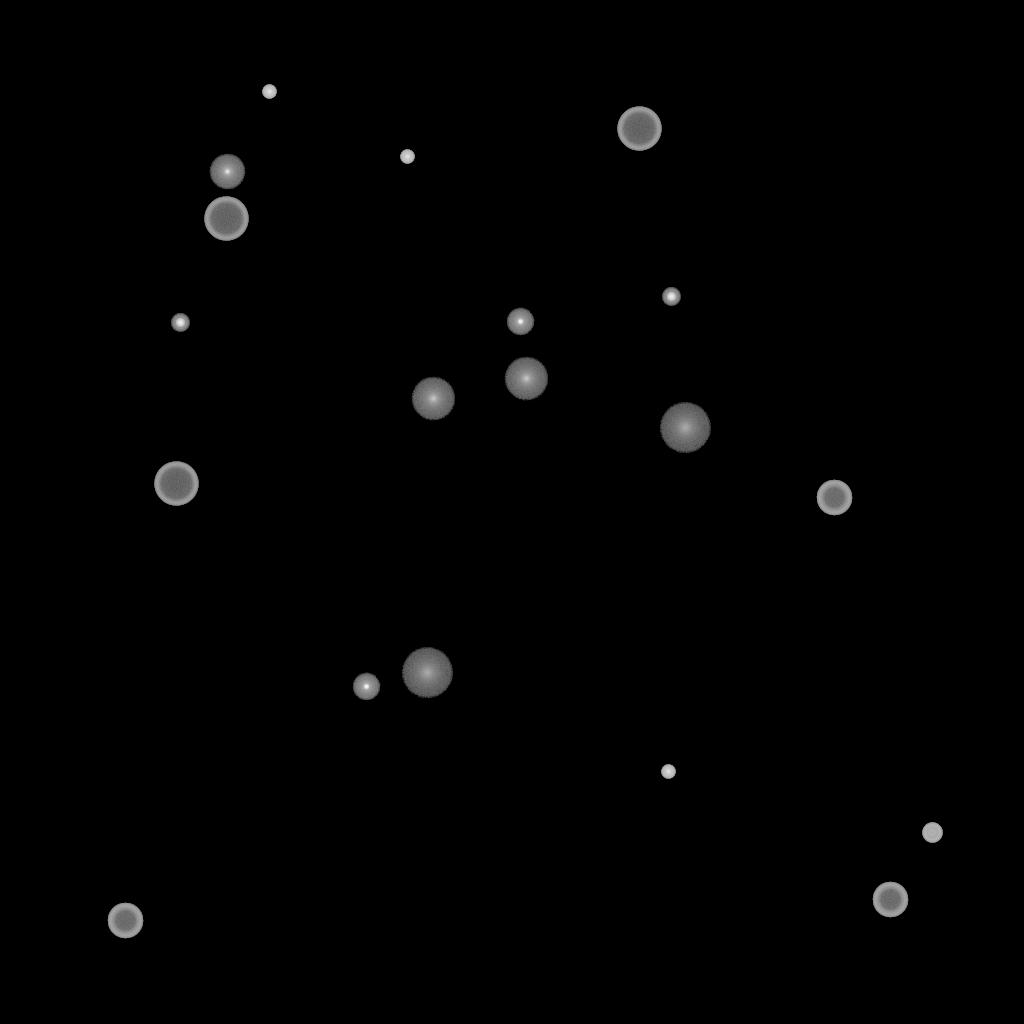depth:-10: (506, 308, 534, 336), (352, 673, 380, 701)
depth:-20: (171, 314, 189, 332), (662, 288, 680, 306)
depth:-30: (262, 85, 276, 99), (661, 765, 675, 779), (400, 150, 414, 164)
depth:-40: (922, 823, 942, 843)
depth:-60: (107, 903, 143, 939), (816, 480, 852, 516), (872, 882, 908, 918)
depth:-70: (154, 462, 198, 506), (617, 107, 661, 151), (204, 197, 248, 241)
depth:0: (209, 154, 245, 190)
depth:10: (411, 377, 455, 421), (504, 357, 548, 401)
depth:20: (659, 403, 711, 453), (401, 648, 453, 698)
